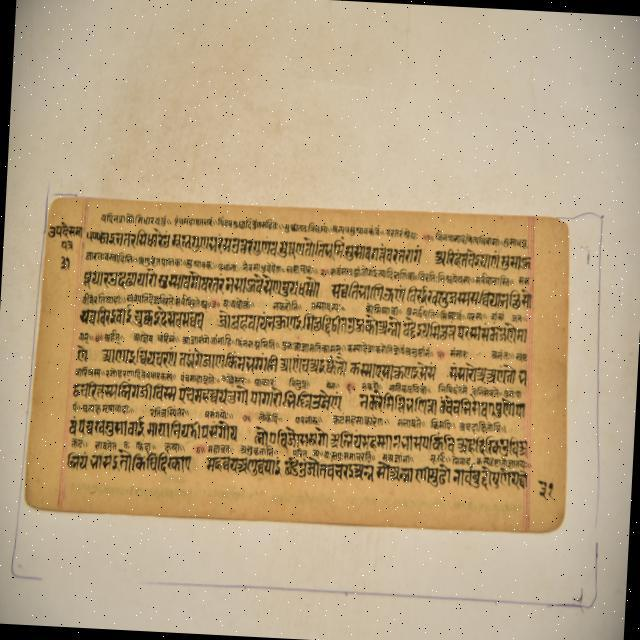text_paragraph: (20, 192, 567, 540)
